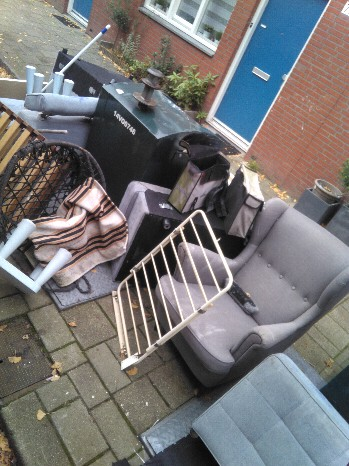Container: (108, 79, 209, 187), (60, 256, 63, 260)
Rest: (141, 182, 349, 389), (110, 231, 226, 370), (27, 155, 127, 304), (196, 369, 348, 466), (4, 74, 97, 228), (140, 193, 279, 257), (179, 162, 296, 223)
